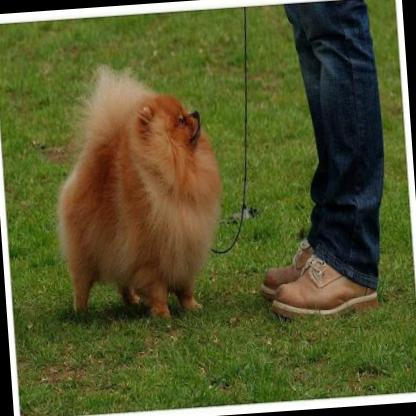Pomeranian: (44, 55, 233, 334)
